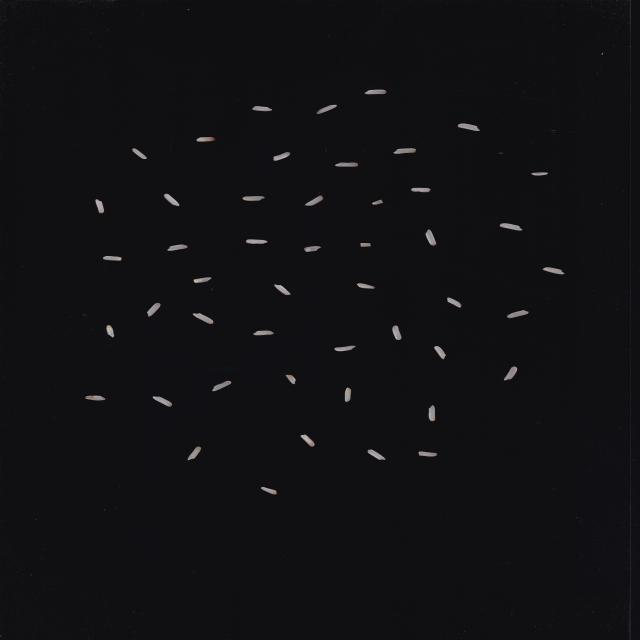Not: (192, 313, 214, 324), (146, 302, 161, 317), (503, 366, 518, 381), (152, 396, 172, 407), (212, 381, 232, 392), (188, 446, 202, 461), (367, 449, 386, 460), (305, 195, 324, 206), (163, 194, 180, 206), (425, 229, 437, 246), (300, 434, 315, 447), (499, 223, 523, 231), (316, 105, 337, 114), (274, 284, 291, 295), (458, 124, 480, 132), (542, 267, 564, 275), (507, 310, 529, 318), (434, 346, 446, 360), (132, 148, 147, 159), (447, 297, 462, 308), (273, 152, 291, 161), (166, 244, 188, 251), (393, 148, 417, 154), (252, 105, 272, 112), (392, 326, 402, 340), (364, 89, 387, 95), (95, 199, 104, 214), (334, 346, 356, 352), (261, 486, 277, 494), (428, 405, 436, 421), (85, 395, 106, 401), (253, 330, 274, 336), (418, 451, 438, 457), (344, 387, 352, 402), (334, 162, 358, 167), (106, 325, 115, 338), (242, 196, 265, 201), (193, 277, 212, 283), (285, 374, 296, 384), (304, 246, 322, 252), (357, 283, 375, 289), (196, 137, 216, 142), (102, 256, 122, 261), (246, 240, 268, 244), (411, 188, 431, 192), (531, 172, 548, 176), (372, 200, 383, 205), (360, 243, 371, 247)
